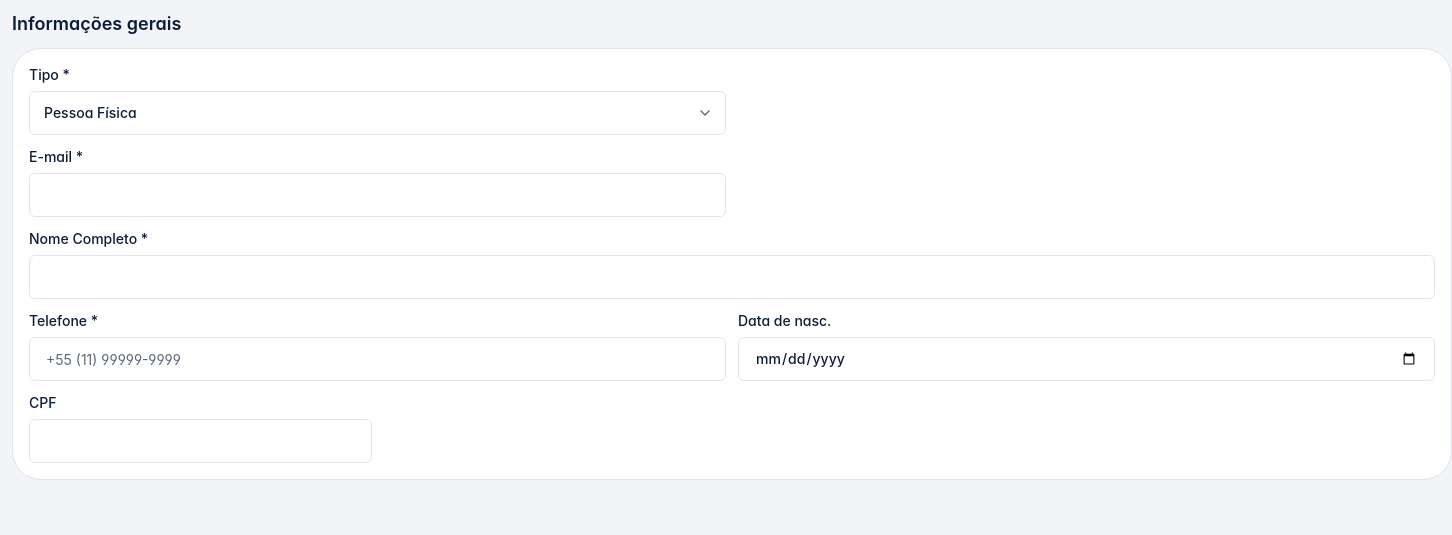
Test: aviso de identidade no preenchimento › consulta documento completo e mantém a máscara PF
The width and height of the screenshot is (1452, 535).
Type "123.456.789-09" into the field labelled "CPF".
click(200, 441); type("123.456.789-09")  # box [29,419,372,463]
Wait 350 ms
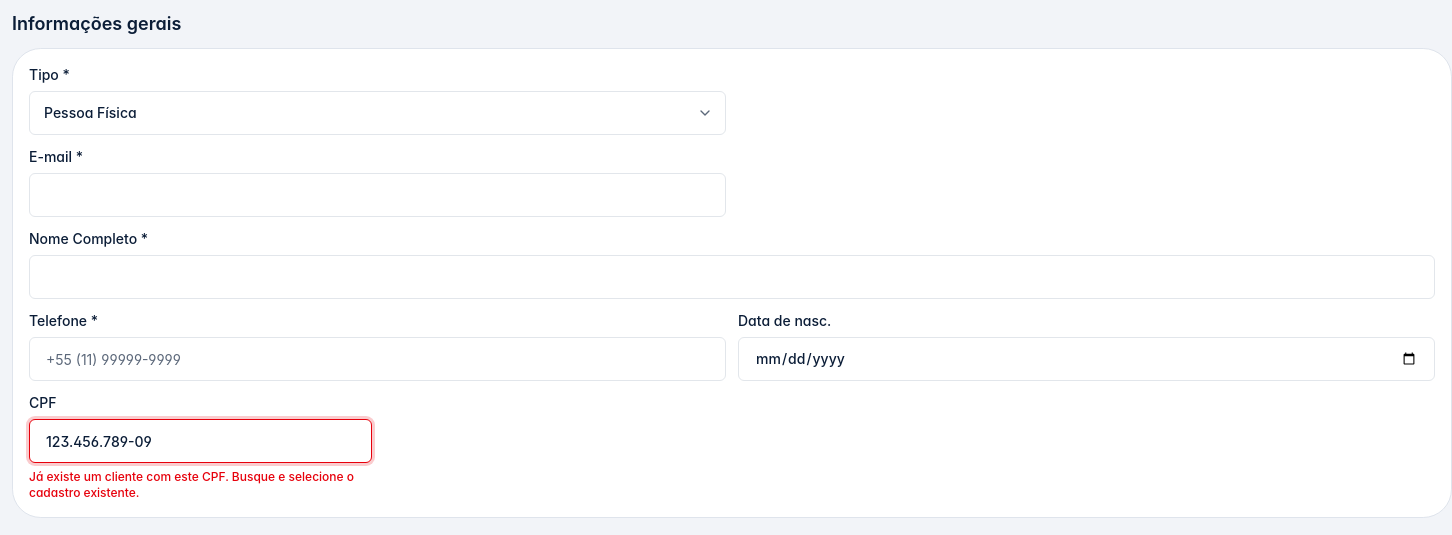
Result: the message shows "CPF" at [29,469,354,500]
